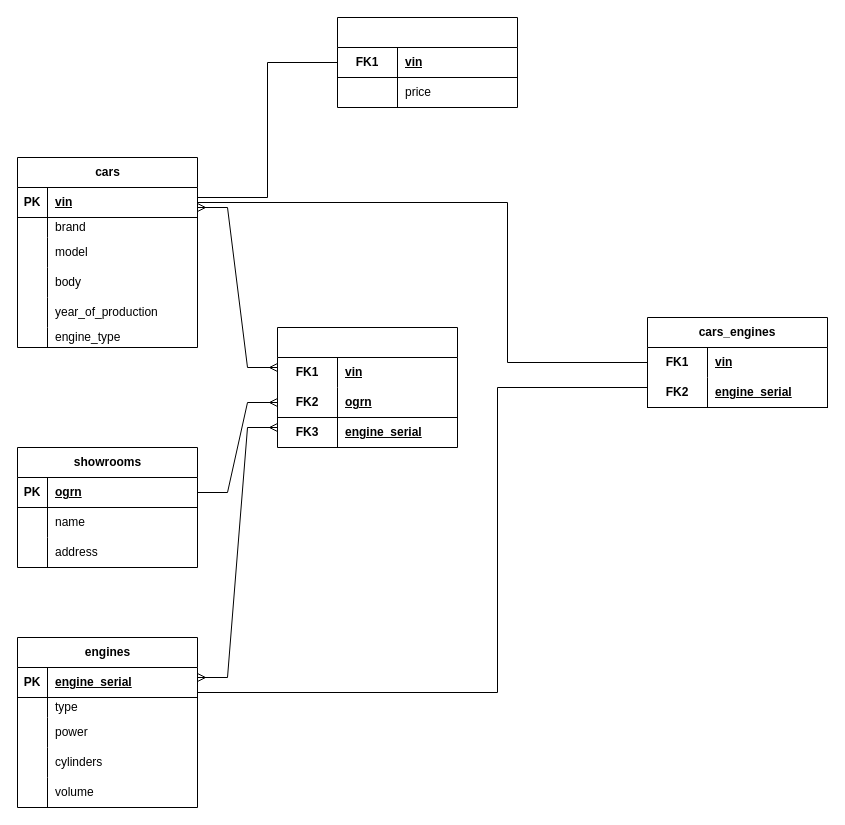
The diagram is 845 pixels wide and 825 high, and some of its shapes have lost their labels. Each missing label, with the box of its shape:
cars_engines_showrooms: (276, 326, 458, 448)
cars_prices: (336, 16, 518, 108)
